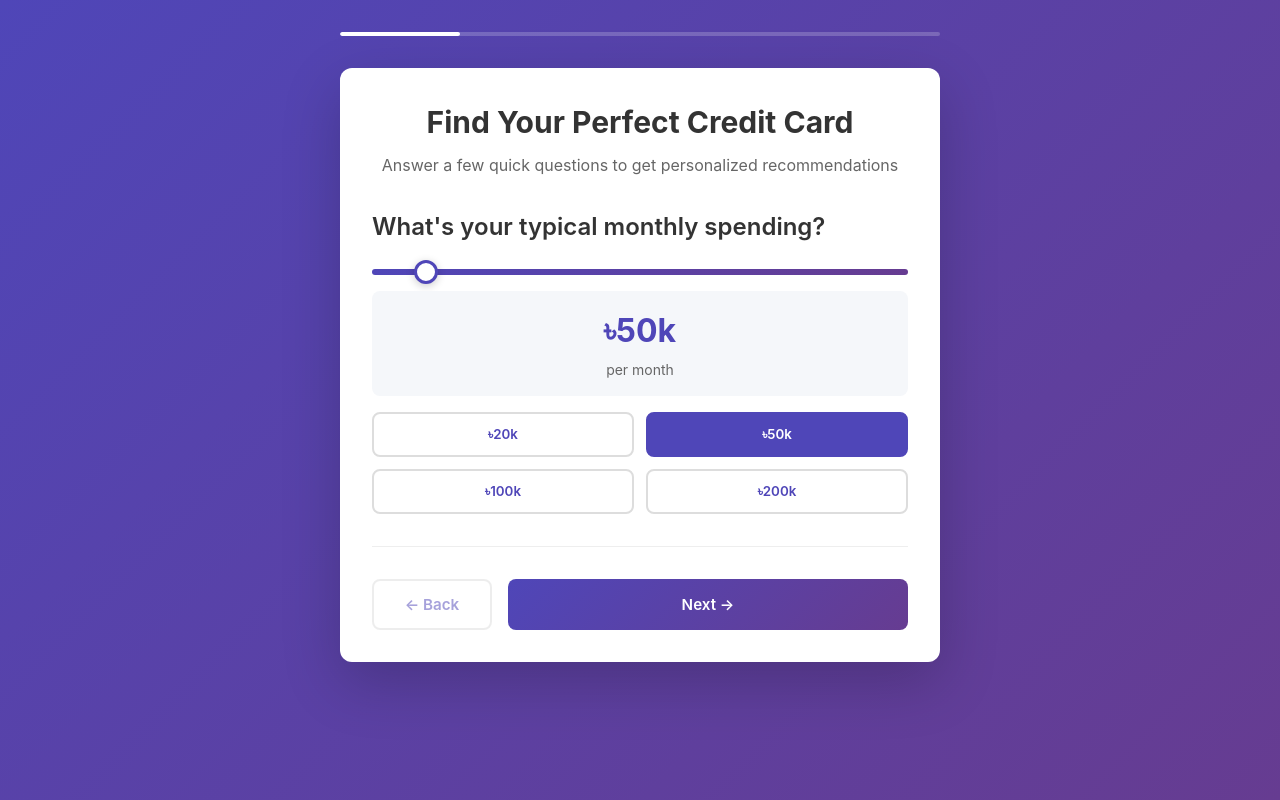
Test: RecommendationQuiz › Quiz Flow › navigates through all 5 steps
Expected: the heading "What's your typical monthly spending?" is shown, [372,212,825,241]
What coordinates should you click on to do the following:
click the button "Next →"
I would click on:
 (708, 604)
Its box is [508,579,908,630].
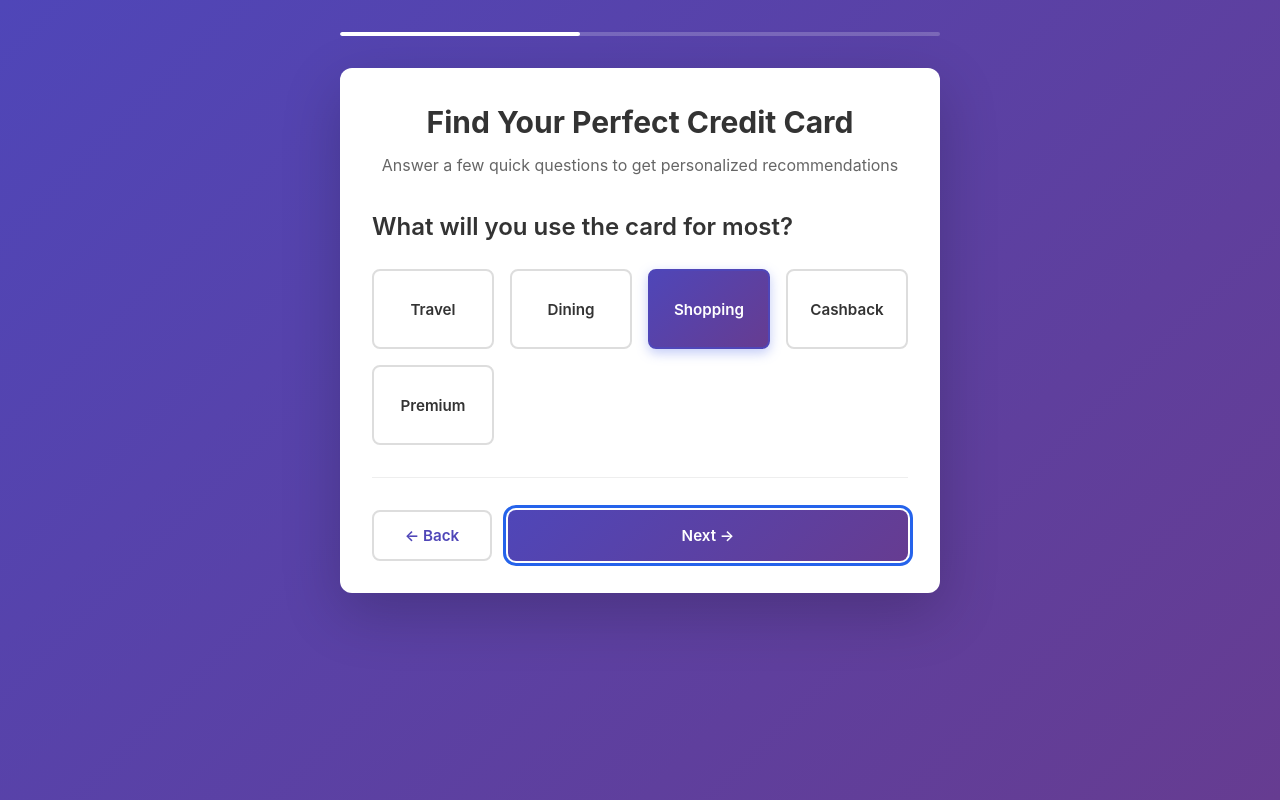
Result: the heading "What will you use the card for most?" is shown at [372,212,793,241]
What coordinates should you click on to do the following:
click the button "Next →"
I would click on:
 (708, 536)
Its box is [508,510,908,561].
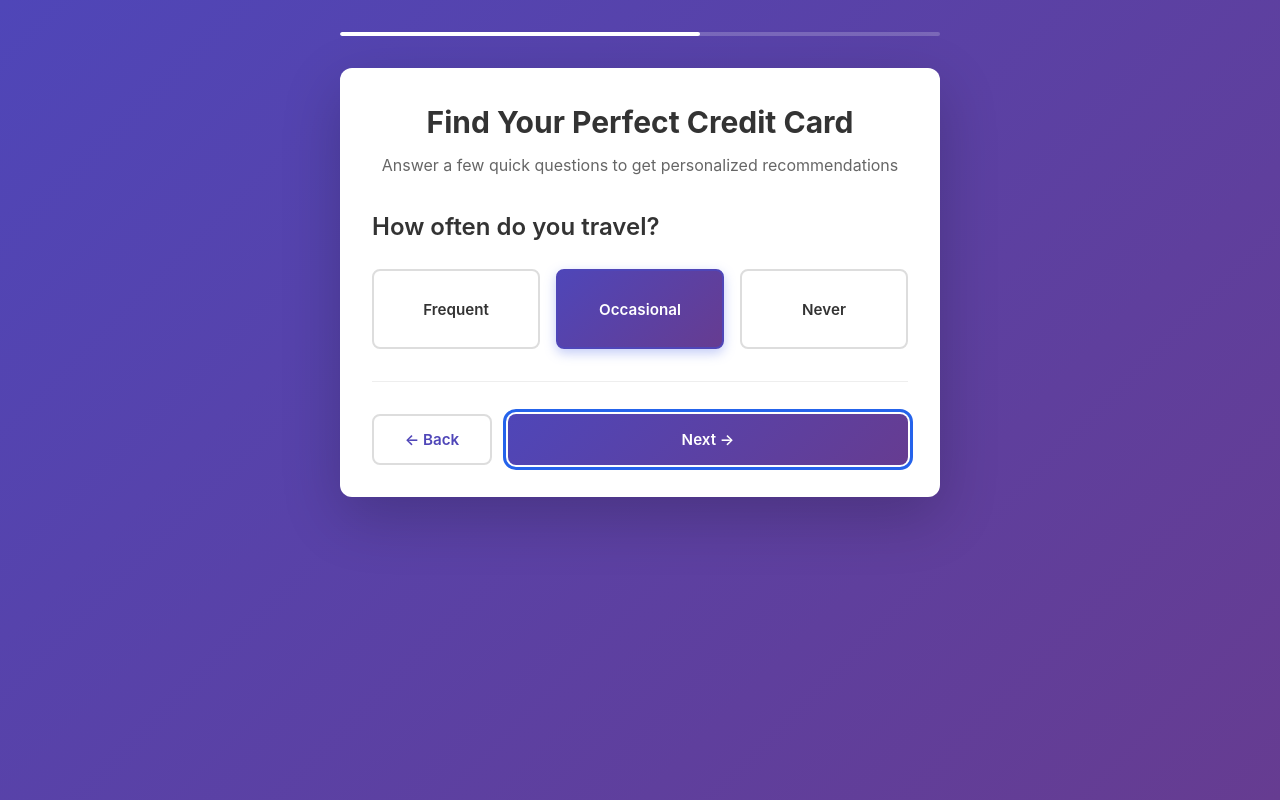
Result: the heading "How often do you travel?" is shown at [372,212,660,241]
What coordinates should you click on to do the following:
click the button "Next →"
I would click on:
 (708, 440)
Its box is [508,414,908,465].
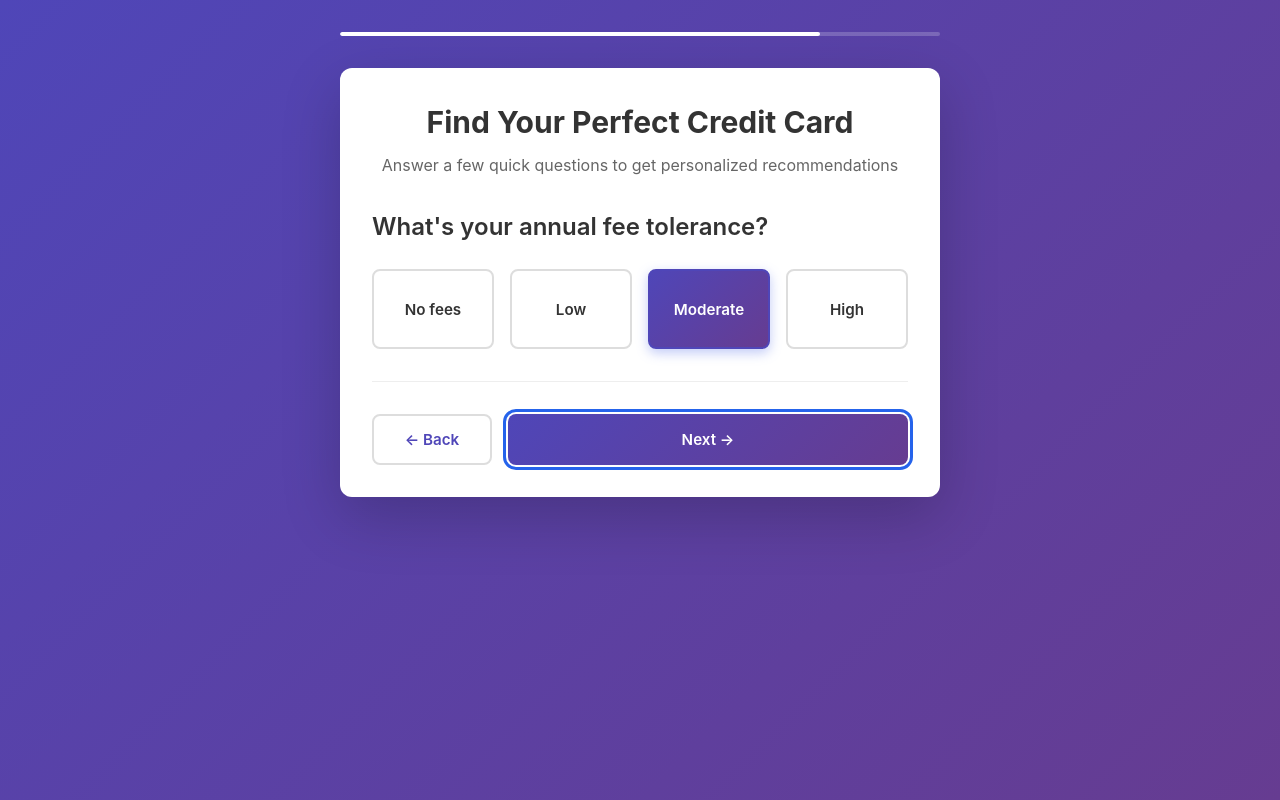
Result: the heading "What's your annual fee tolerance?" is shown at [372,212,768,241]
What coordinates should you click on to do the following:
click the button "Next →"
I would click on:
 (708, 440)
Its box is [508,414,908,465].
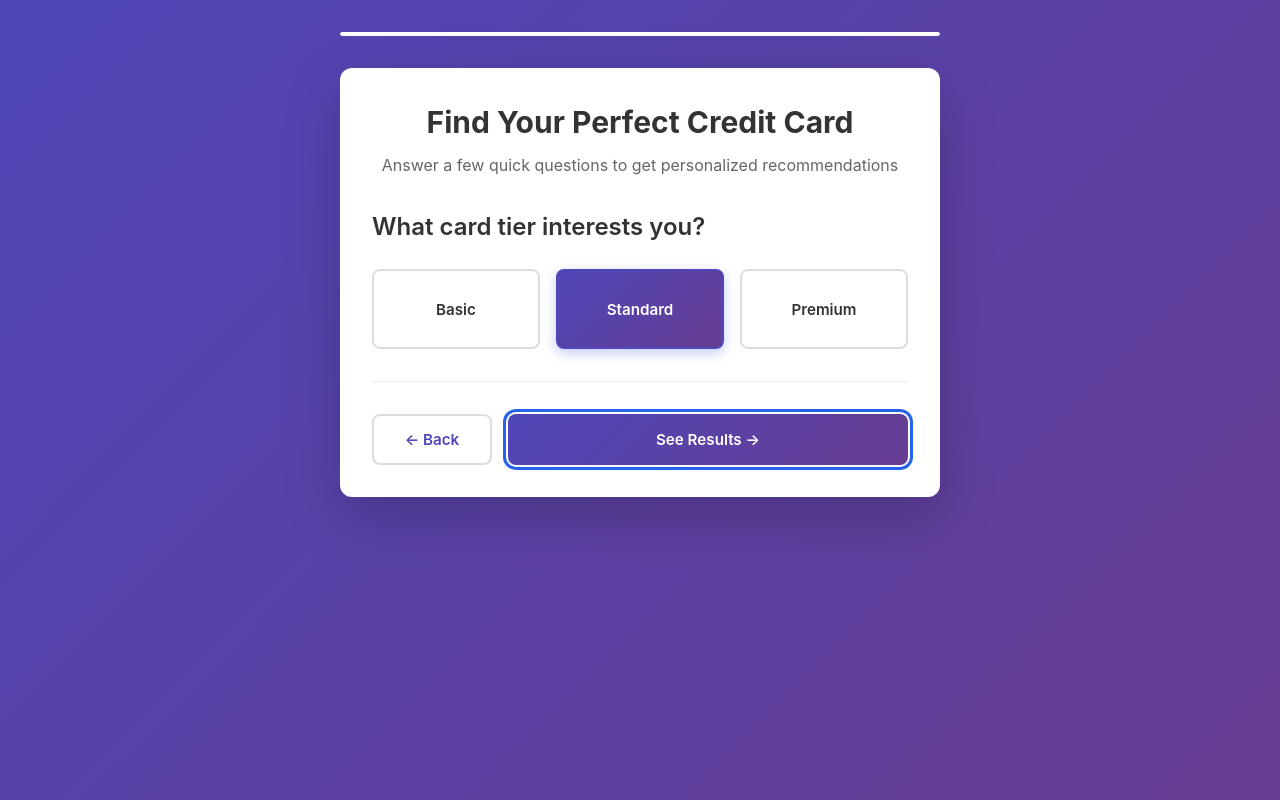
Result: the heading "What card tier interests you?" is shown at [372,212,705,241]
What coordinates should you click on to do the following:
click the button "See Results →"
I would click on:
 (708, 440)
Its box is [508,414,908,465].
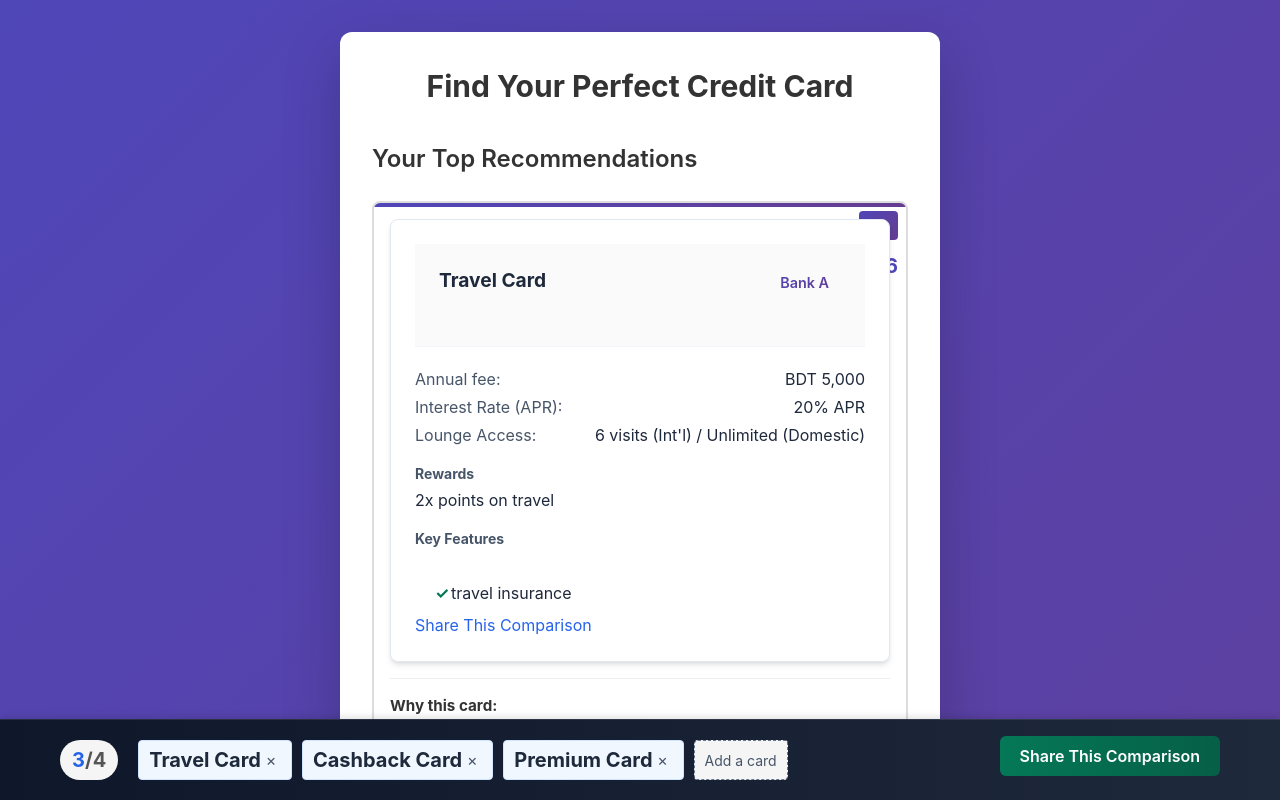
Result: the heading "Your Top Recommendations" is shown at [372,144,698,173]
